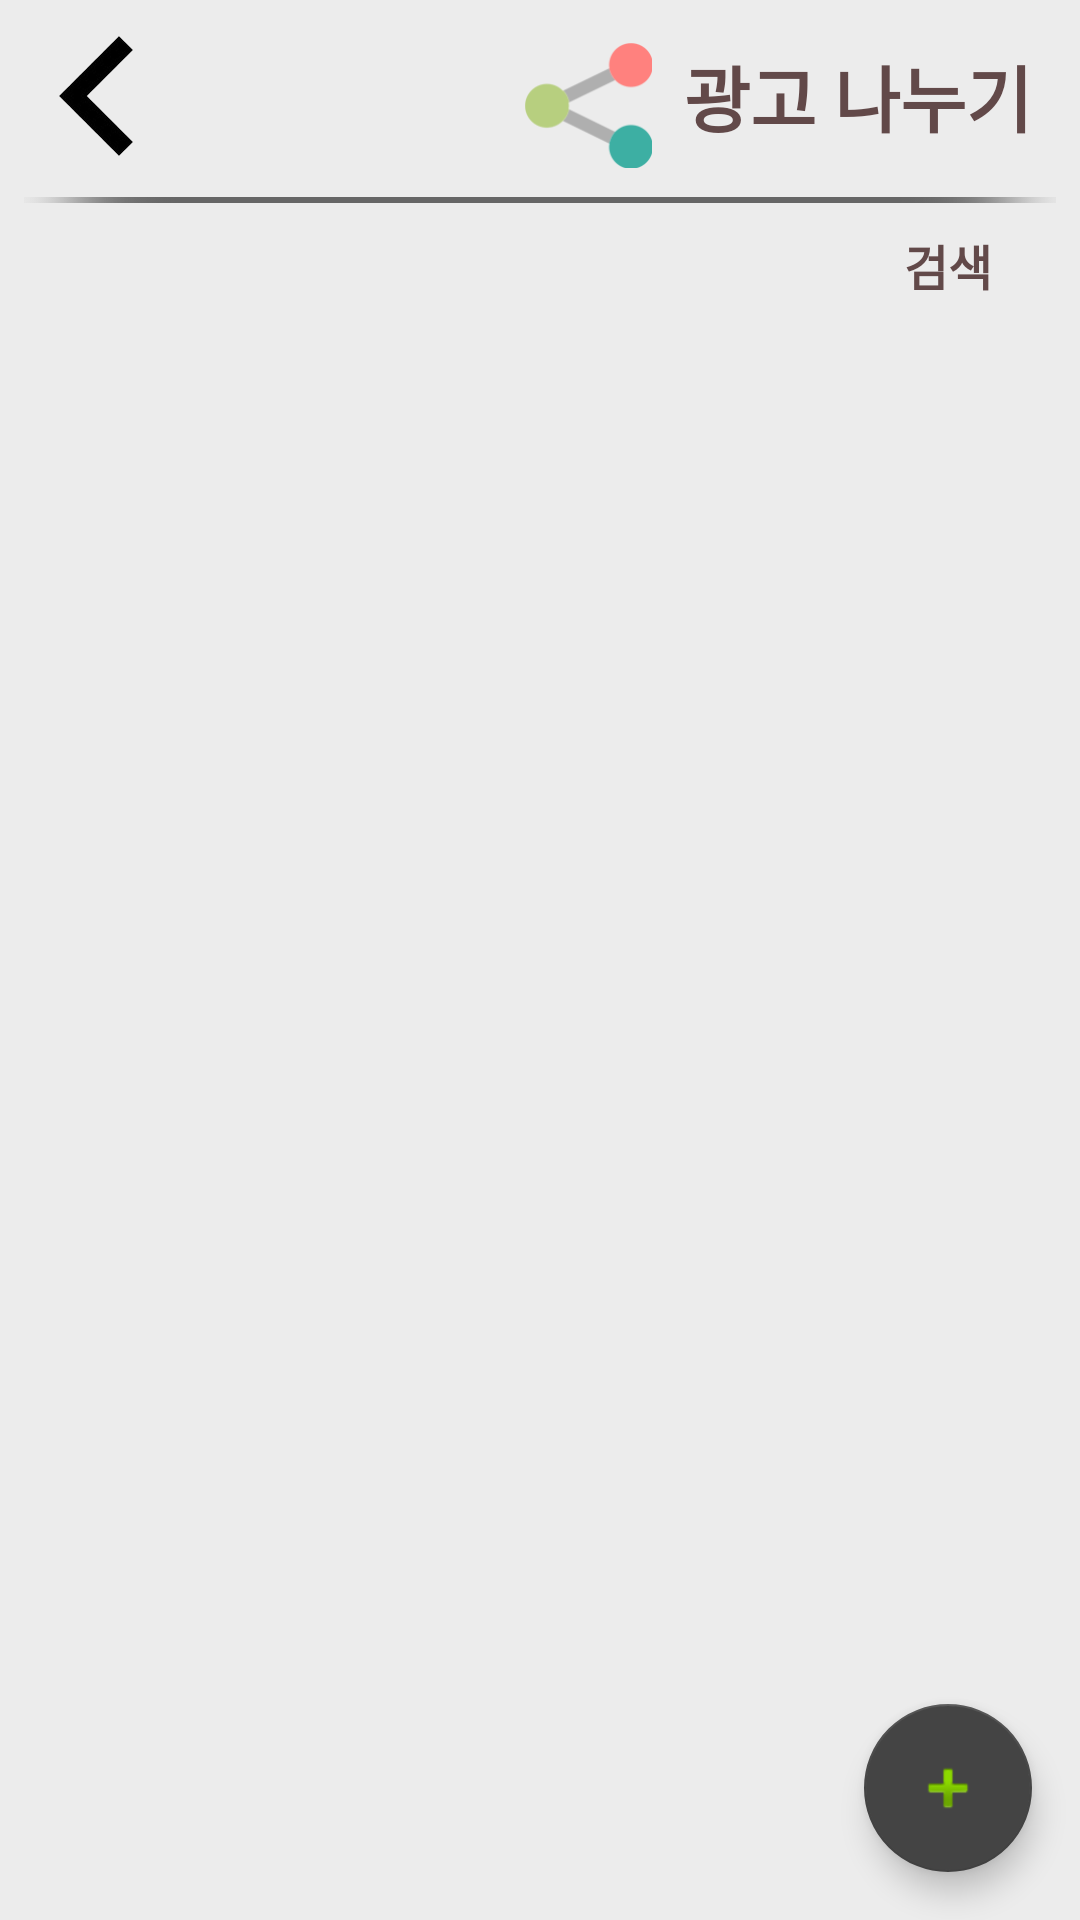

Point at icon controls on the screen. Image size 1080px x 1920px, points as (x,y).
add: (948,1788)
back: (96,96)
share ad: (588,105)
